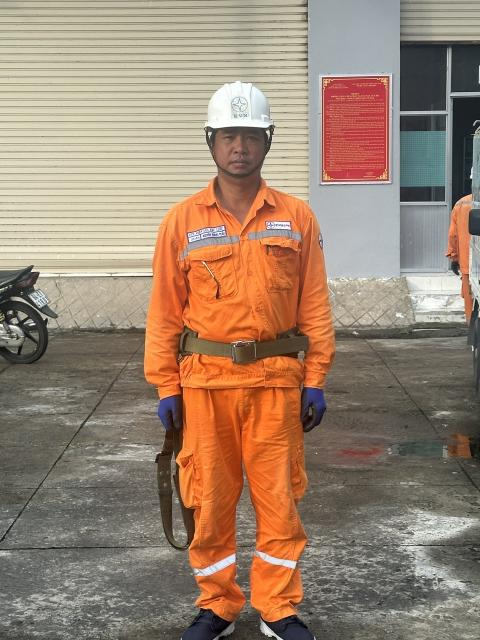gloves: (148, 385, 198, 436), (300, 381, 335, 431), (448, 257, 466, 279)
harness: (156, 310, 322, 371)
helmet: (194, 78, 283, 136)
shoes: (167, 572, 239, 640), (255, 603, 318, 640)
